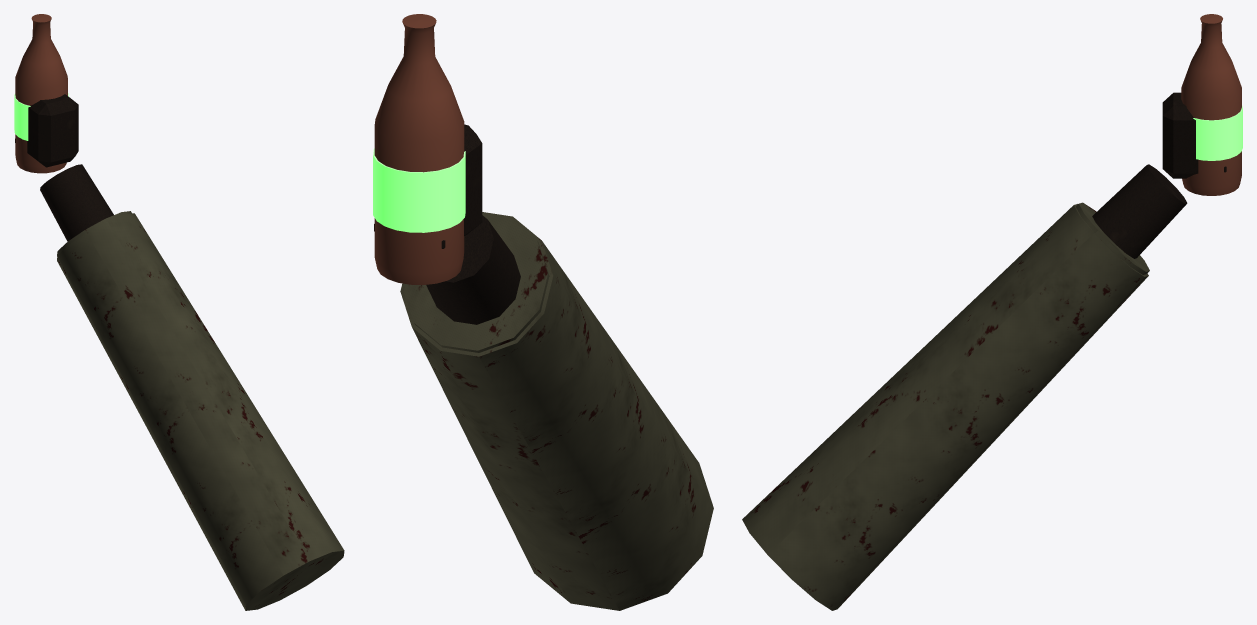
File: perk_bottle.gltf
3 views of the same model, side by side, from view 1: azimuth 30°, elevation 25°; view 2: azimuth 150°, elevation 25°; view 3: azimuth 270°, elevation 25° (orthographic). The views are drawn at different scales.
Visible parts, largest first — view 1: Body; view 2: Body; view 3: Body.
Part boxes in pixels (x1=…): Body: x1=14, y1=14, x2=344, y2=610; Body: x1=373, y1=14, x2=713, y2=610; Body: x1=742, y1=14, x2=1242, y2=610.
Size of the model in its own units: 0.2179 by 0.6826 by 0.5632.
4 materials, 2 textured.
